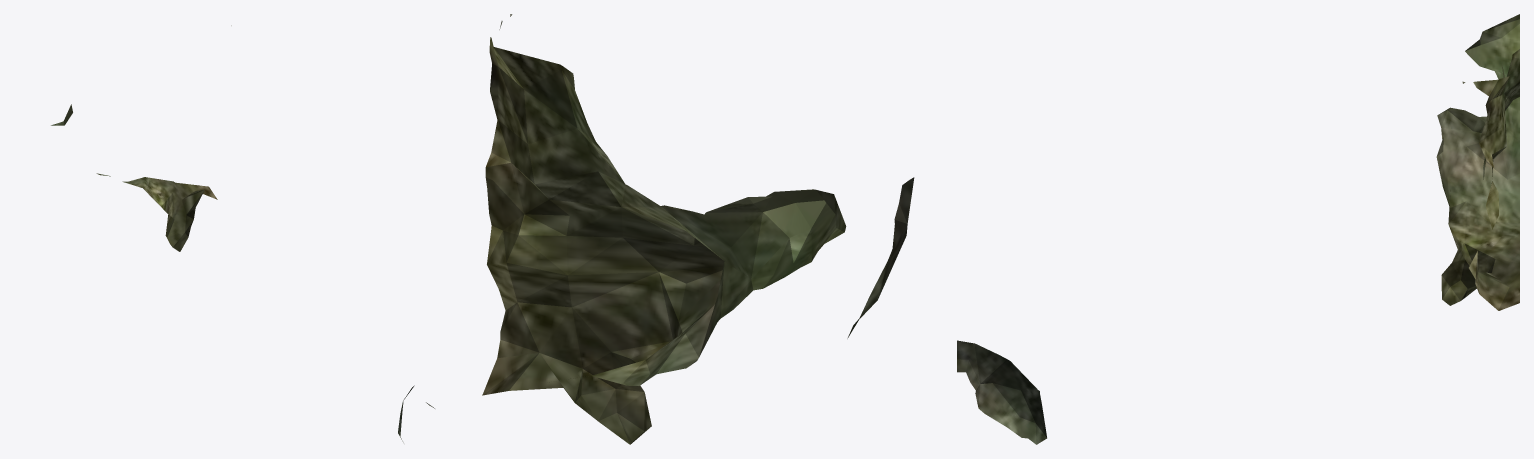
3 views of the same model, side by side, from view 1: azimuth 30°, elevation 25°; view 2: azimuth 150°, elevation 25°; view 3: azimuth 270°, elevation 25° (orthographic). The views are drawn at different scales.
Size of the model in its own units: 1.46 by 2.1 by 2.95.
1 material, 1 textured.
